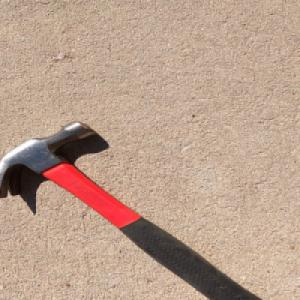Hammer: (0, 119, 270, 300)
